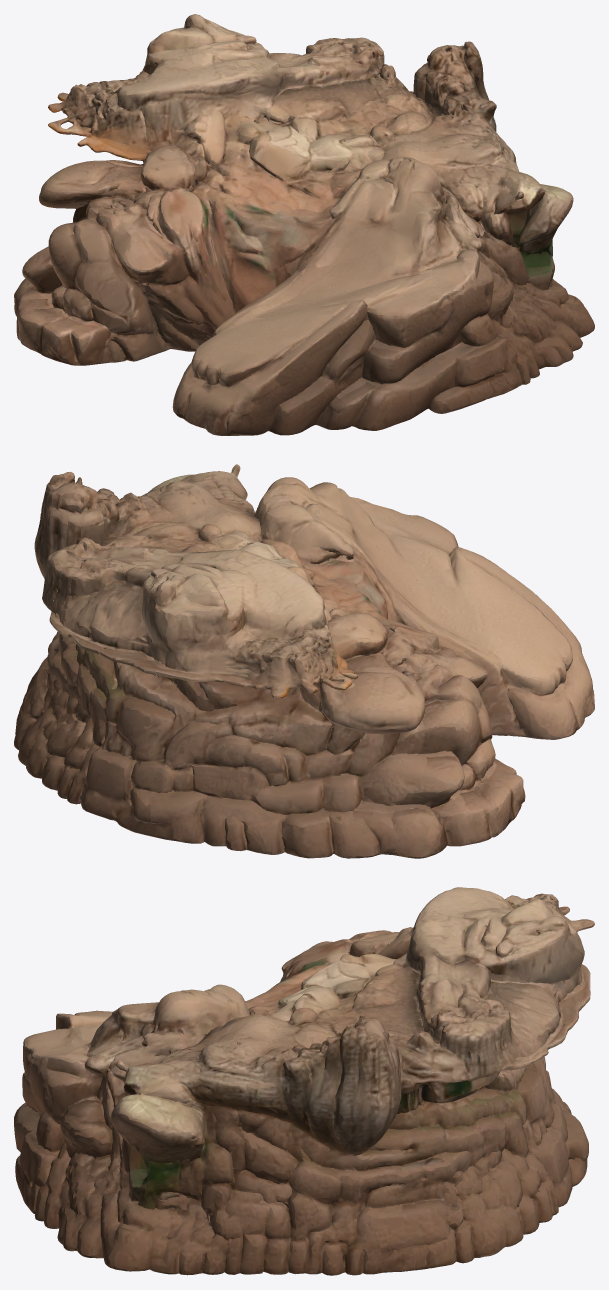
Rendered from wet-boulder.glb.
The picture shows the model from 3 angles, top to bottom: view 1: azimuth 30°, elevation 25°; view 2: azimuth 150°, elevation 25°; view 3: azimuth 270°, elevation 25°; orthographic projection. The views are drawn at different scales.
Parts seen in each view (by area): view 1: geometry_0; view 2: geometry_0; view 3: geometry_0.
Boxes of the visible parts, <box> form: geometry_0: <box>14,14,594,435</box>; geometry_0: <box>14,464,594,858</box>; geometry_0: <box>14,887,594,1275</box>.
Bounding box in the file's own units: 1.2 × 0.5783 × 1.2.
1 material, 1 textured.
